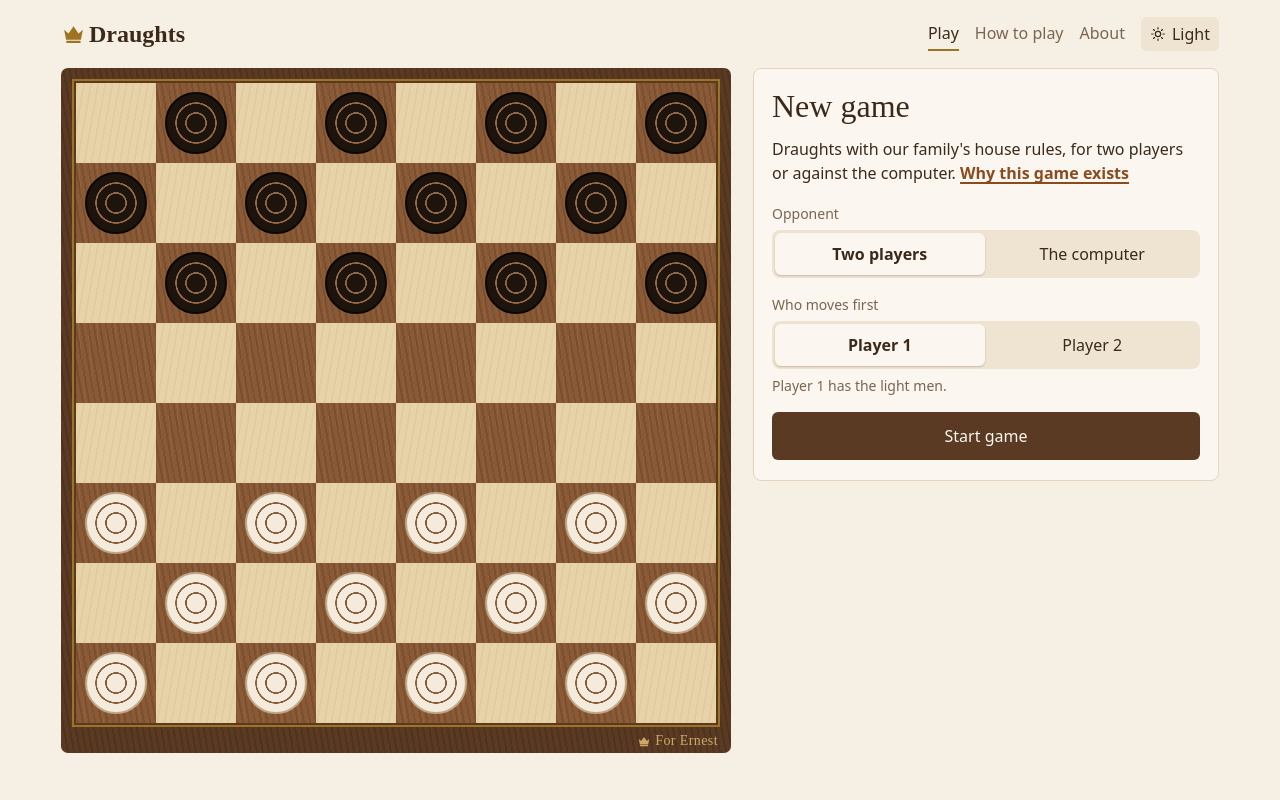
Scenario: the light and dark button › follows the device when it changes, until the player uses the button (spec section 6.6, item 13)
Step 1. Click the button "Light" → x=1180, y=34, box [1141,17,1219,51]
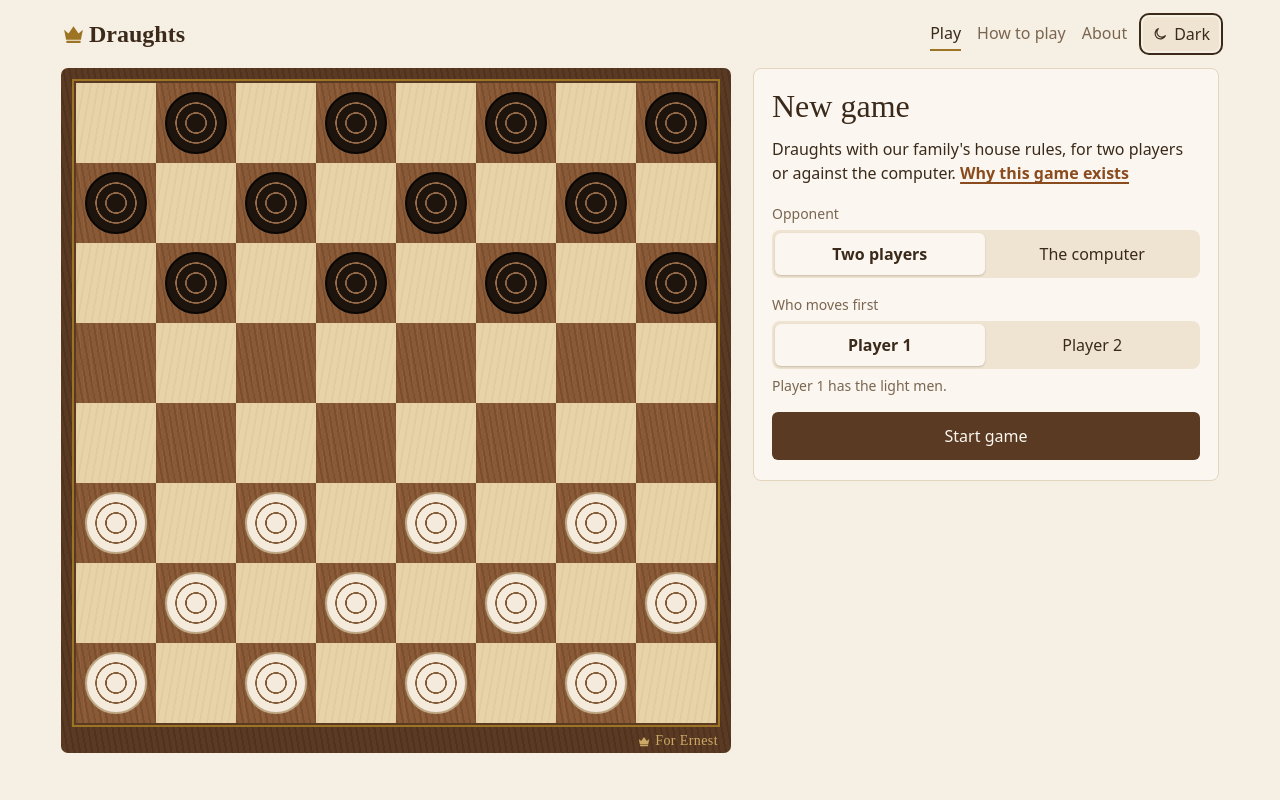
Now the button with aria-label "Switch to dark mode" reads "Dark", box [1143,17,1219,51]
